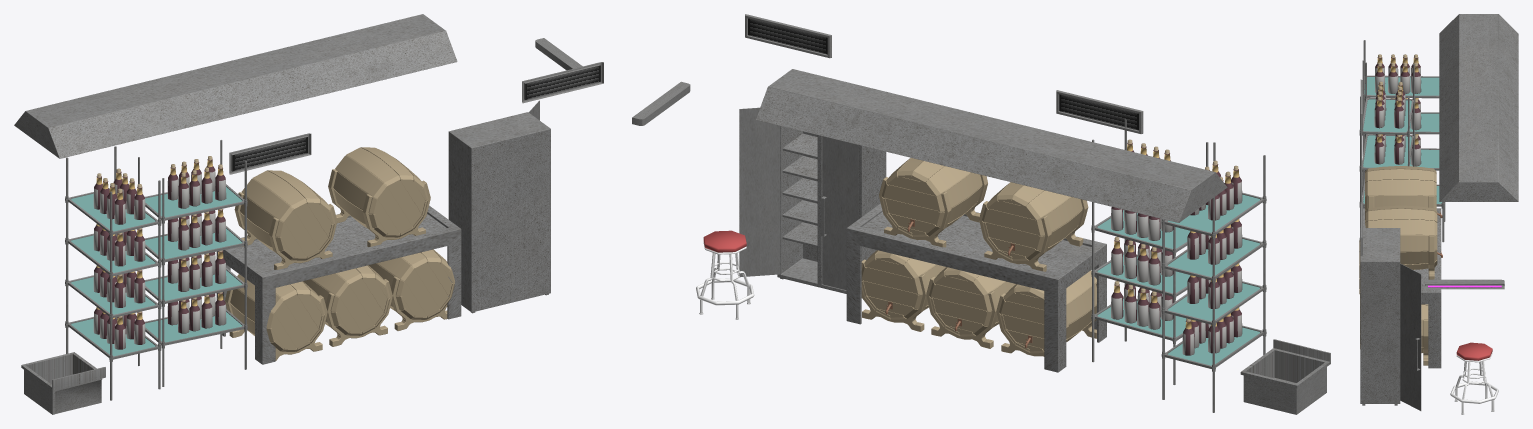
File: BackBarCloset.fbx
The picture shows the model from 3 angles, left to right: view 1: azimuth 30°, elevation 25°; view 2: azimuth 150°, elevation 25°; view 3: azimuth 270°, elevation 25°; orthographic projection. The views are drawn at different scales.
Visible parts, largest first — view 1: BackBarCloset; view 2: BackBarCloset; view 3: BackBarCloset.
Boxes of the visible parts, box(x1,y1,x2,y2) form: BackBarCloset: box(14, 14, 603, 414); BackBarCloset: box(632, 14, 1330, 414); BackBarCloset: box(1359, 14, 1518, 414).
Size of the model in its own units: 1442 by 565 by 400.
